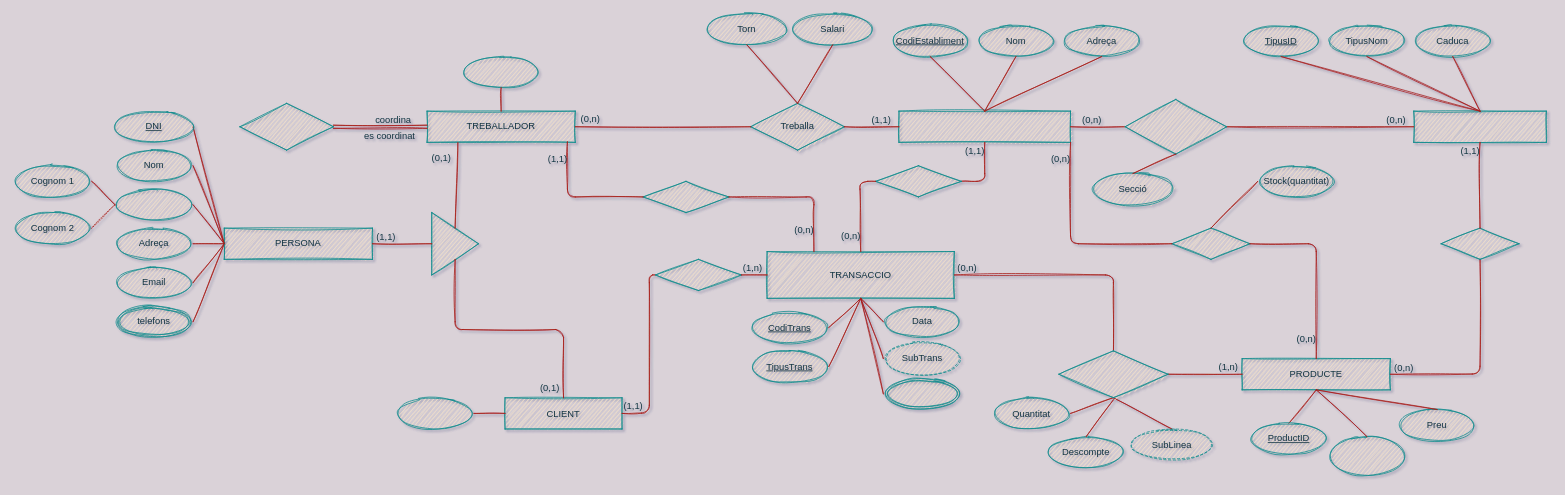
This 1565x495 diagram has some shape labels left out. Each missing label, with the centre of its shape:
Classifiquen: the point at 1479,243
CodiClient: the point at 434,413
CodiTreballador: the point at 500,72
Cognoms: the point at 153,204
Contenen: the point at 1113,374
Cordina: the point at 286,126
Despatxa: the point at 685,197
Divideixen: the point at 1175,126
ES E,T: the point at 455,243
ESTABLIMENT: the point at 984,126
Pagament: the point at 922,394
ProductNom: the point at 1366,456
Realitza1: the point at 698,275
Realitza2: the point at 918,181
Tenen: the point at 1210,243
TIPUS DE PRODUCTE: the point at 1479,126
